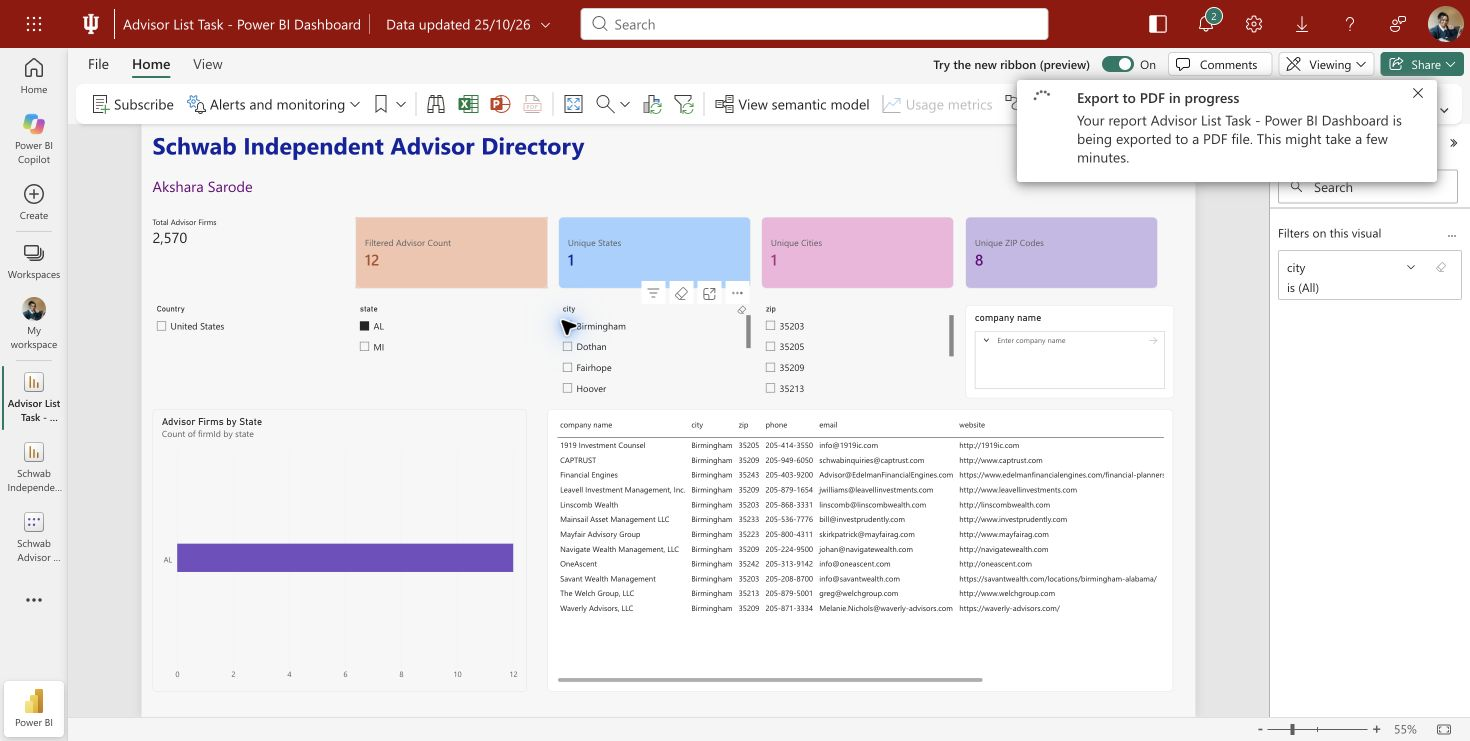

The dashboard page shown, as its layout file describes it:
{"tool":"powerbi","page":{"name":"Page 1","canvas":[1920,1080],"ordinal":0},"visuals":[{"type":"slicer","fields":{"Values":["Advisor Locations.Country"]},"box":[20,330,350,170],"z":0},{"type":"slicer","fields":{"Values":["Advisor Locations.state"]},"box":[390,330,350,170],"z":1000},{"type":"slicer","fields":{"Values":["Advisor Locations.city"]},"box":[760,330,350,170],"z":2000},{"type":"slicer","fields":{"Values":["Advisor Locations.zip"]},"box":[1130,330,350,170],"z":3000},{"type":"textSlicer","fields":{"Values":["Advisor Locations.company name"]},"box":[1500,330,380,170],"z":4000},{"type":"tableEx","fields":{"Values":["Advisor Locations.company name","Advisor Locations.city","Advisor Locations.zip","Advisor Locations.phone","Advisor Locations.email","Advisor Locations.website","Advisor Locations.profile url","Advisor Locations.state"]},"box":[739.2,519.5,1139.6,514.9],"z":5000},{"type":"cardVisual","fields":{"Data":["Count(Advisor Locations.state)"]},"box":[760,170,350,130],"z":6000},{"type":"cardVisual","fields":{"Data":["Count(Advisor Locations.city)"]},"box":[1130,170,350,130],"z":7000},{"type":"cardVisual","fields":{"Data":["Count(Advisor Locations.zip)"]},"box":[1500,170,350,130],"z":8000},{"type":"cardVisual","fields":{"Data":["Count(Advisor Locations.firmId)"]},"box":[390,170,350,130],"z":9000},{"type":"textbox","box":[20.4,170,350.2,122.6],"z":10000},{"type":"textbox","box":[20,10,1520,90],"z":11000},{"type":"textbox","box":[20,95,1520,60],"z":12000},{"type":"clusteredBarChart","title":"Advisor Firms by State","fields":{"Category":["Advisor Locations.state"],"Y":["Count(Advisor Locations.firmId)"]},"box":[20.6,519.5,682,514.9],"z":13000}]}

Visuals, with their boxes on the page's 1920x1080 design canvas (x1, y1, x2, y2). These are canvas units, not pixel positions in the 1470x741 screenshot, which may show the page scaled, cropped or inside an application window:
slicer - Advisor Locations.Country: [left=20, top=330, right=370, bottom=500]
slicer - Advisor Locations.state: [left=390, top=330, right=740, bottom=500]
slicer - Advisor Locations.city: [left=760, top=330, right=1110, bottom=500]
slicer - Advisor Locations.zip: [left=1130, top=330, right=1480, bottom=500]
textSlicer - Advisor Locations.company name: [left=1500, top=330, right=1880, bottom=500]
tableEx - Advisor Locations.company name x Advisor Locations.city: [left=739, top=520, right=1879, bottom=1034]
cardVisual - Count(Advisor Locations.state): [left=760, top=170, right=1110, bottom=300]
cardVisual - Count(Advisor Locations.city): [left=1130, top=170, right=1480, bottom=300]
cardVisual - Count(Advisor Locations.zip): [left=1500, top=170, right=1850, bottom=300]
cardVisual - Count(Advisor Locations.firmId): [left=390, top=170, right=740, bottom=300]
textbox: [left=20, top=170, right=371, bottom=293]
textbox: [left=20, top=10, right=1540, bottom=100]
textbox: [left=20, top=95, right=1540, bottom=155]
"Advisor Firms by State" clusteredBarChart: [left=21, top=520, right=703, bottom=1034]
